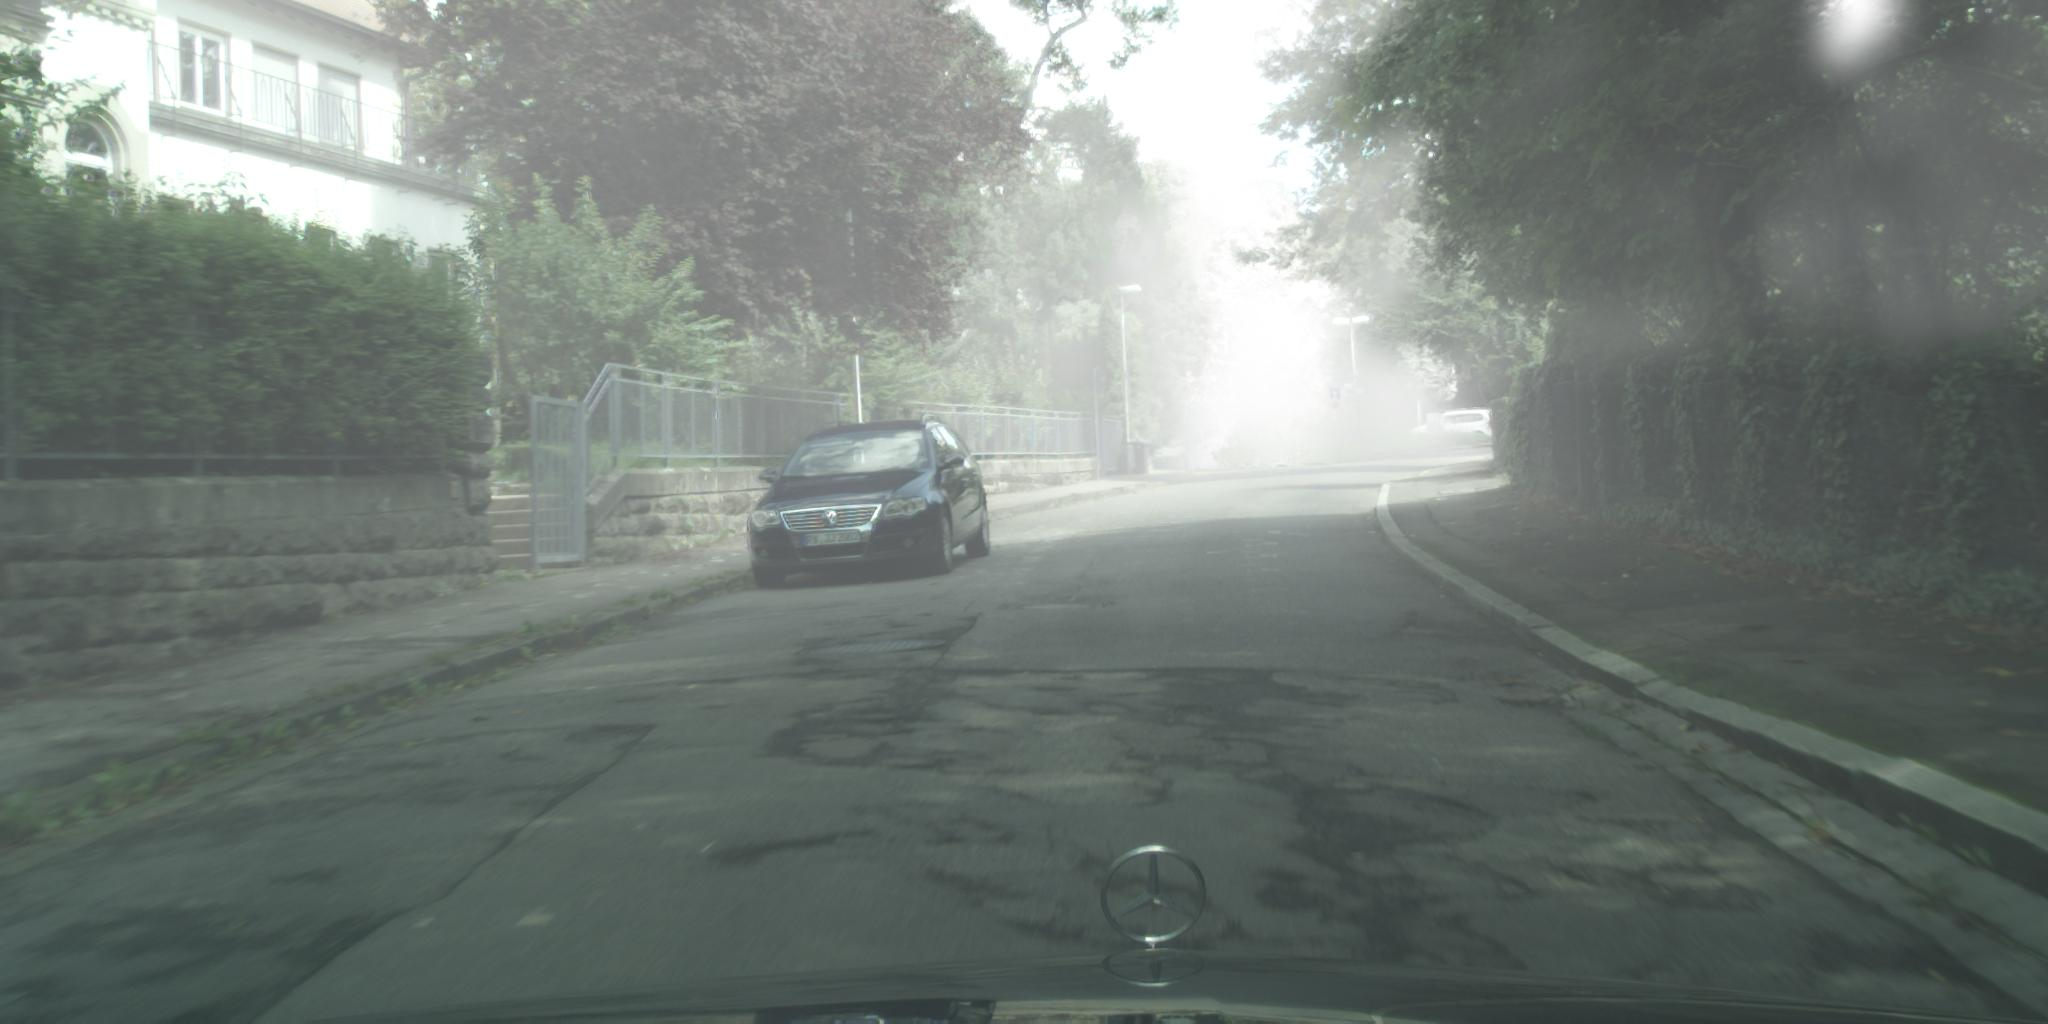car: (746, 414, 993, 590), (1409, 408, 1499, 443)
